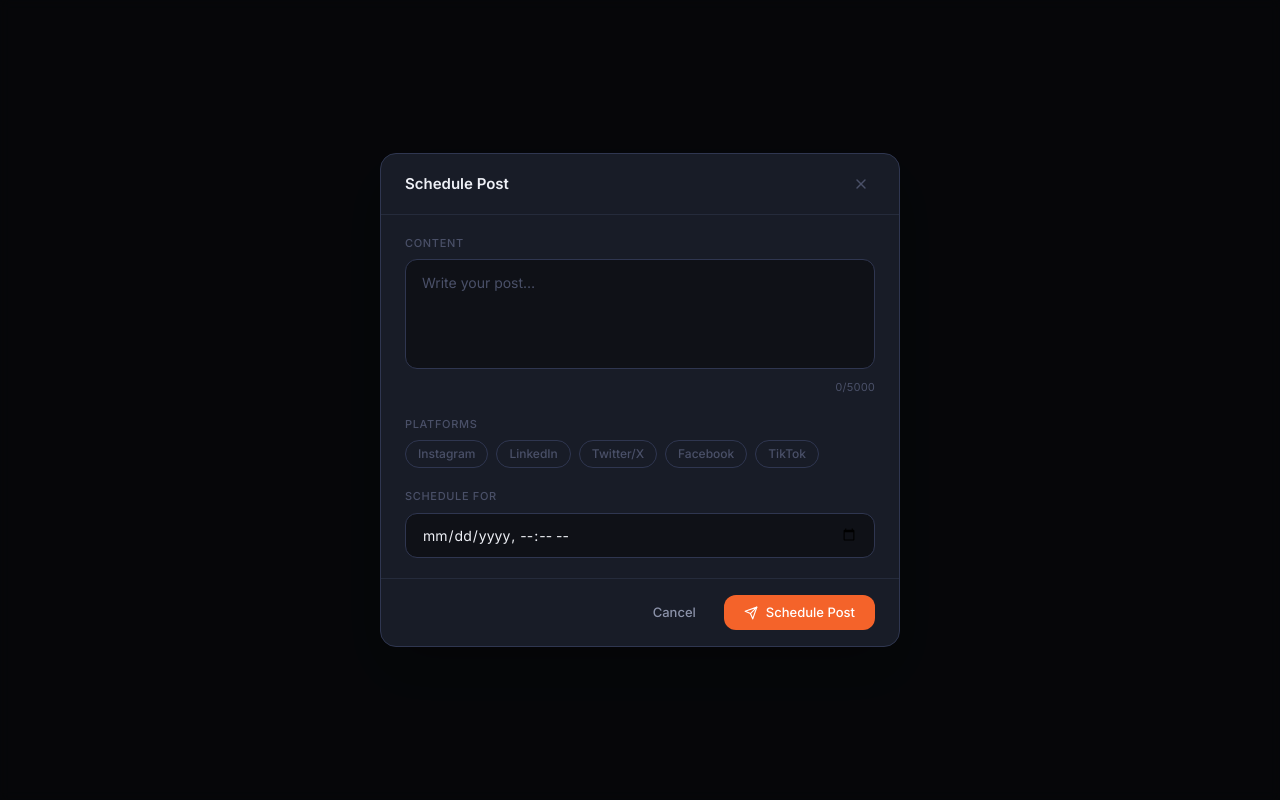
Scenario: ComposeModal › shows error when no platform selected
Type "Test post" into the text box labelled "Content" at (640, 314), box 405,259 -> 875,369
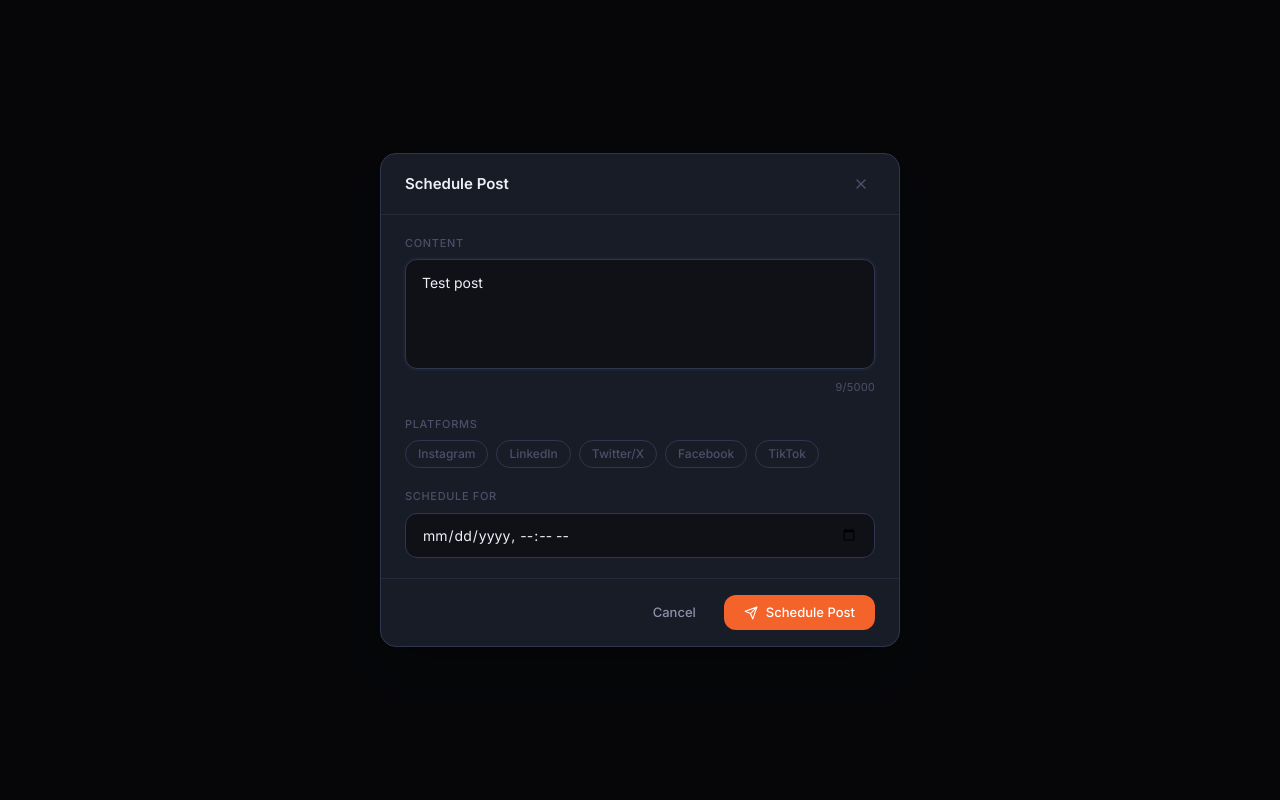
Click the button "Schedule Post" at (799, 613), box 724,595 -> 875,630
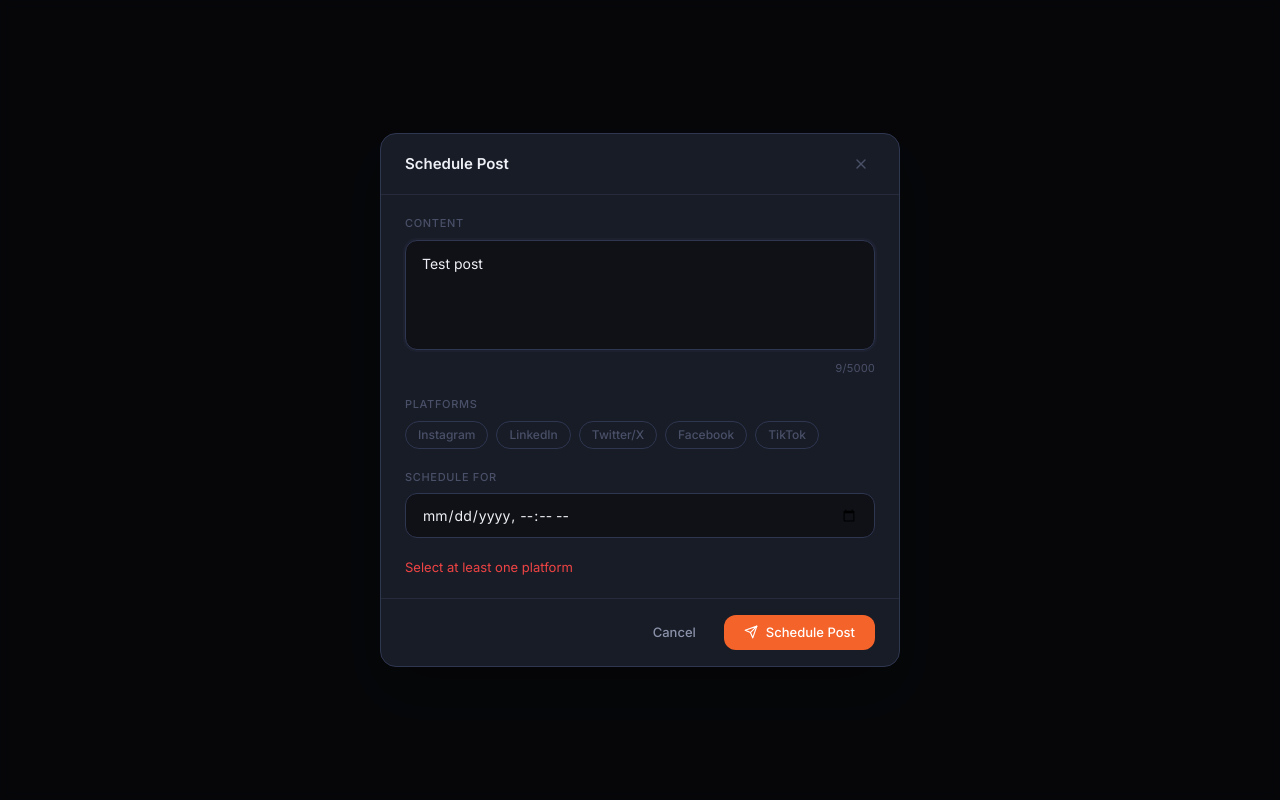
Check: the text "Select at least one platform" is shown, box 405,559 -> 573,575
